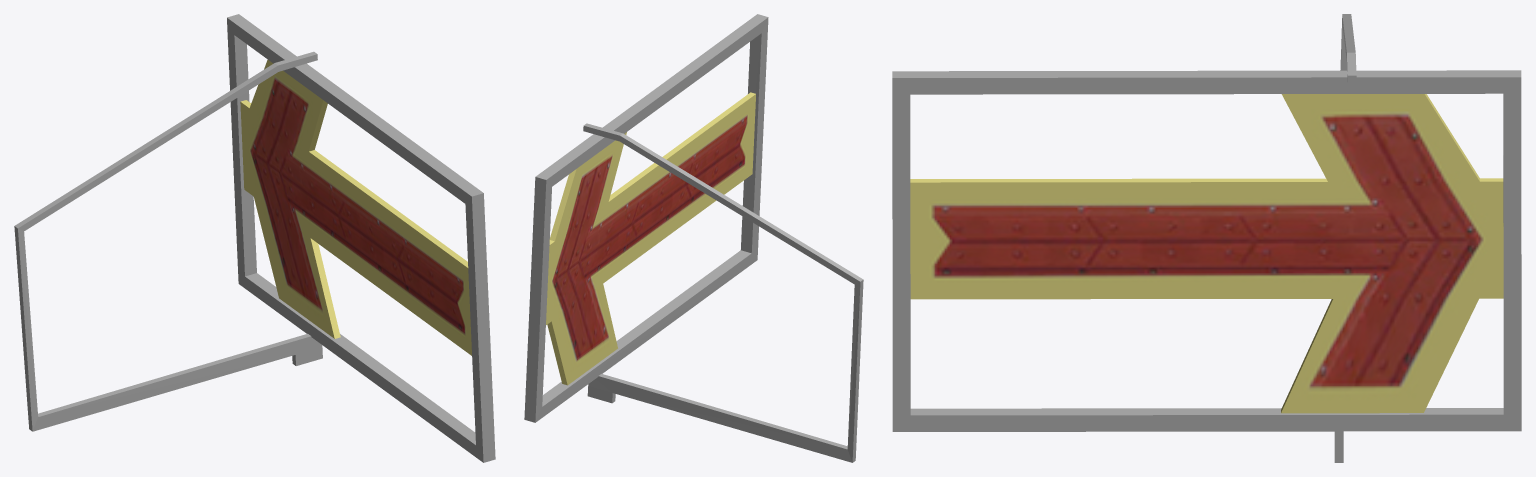
Rendered from Preset_ArrowSignC_R.fbx.
The picture shows the model from 3 angles, left to right: view 1: azimuth 30°, elevation 25°; view 2: azimuth 150°, elevation 25°; view 3: azimuth 270°, elevation 25°; orthographic projection. The views are drawn at different scales.
Parts seen in each view (by area): view 1: Steel, Resin; view 2: Steel, Resin; view 3: Resin, Steel.
Boxes of the visible parts, left/top/right/bottom form: Steel: left=14, top=14, right=495, bottom=462; Resin: left=240, top=60, right=471, bottom=355; Steel: left=524, top=14, right=863, bottom=462; Resin: left=546, top=92, right=755, bottom=385; Resin: left=910, top=94, right=1503, bottom=413; Steel: left=892, top=14, right=1521, bottom=462.
Bounding box in the file's own units: 50.27 × 70.26 × 48.05.
Materials: 2 (2 with a texture image).
